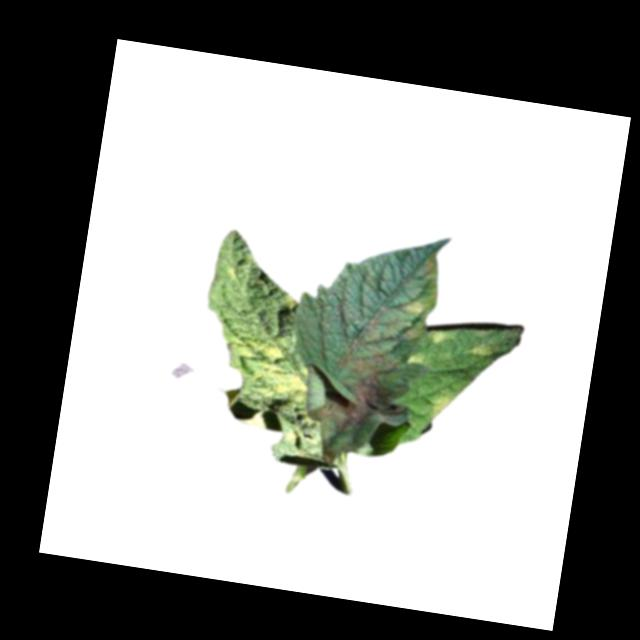Leaf_Mold: (317, 239, 443, 444), (234, 331, 315, 402), (424, 387, 457, 420), (462, 338, 494, 359), (427, 325, 450, 344)
